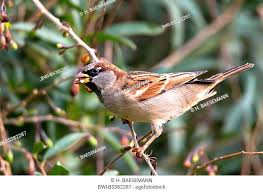hsparrow: (70, 61, 262, 141)
